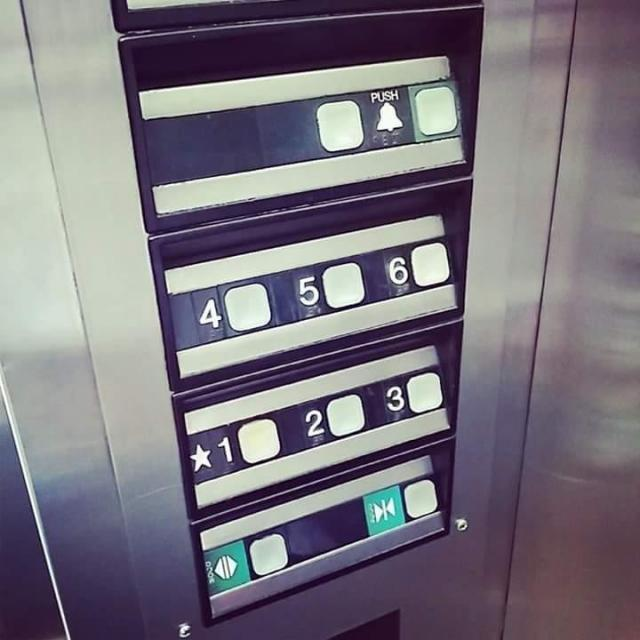2: (297, 380, 363, 450)
3: (376, 359, 444, 427)
4: (185, 268, 281, 346)
5: (286, 254, 369, 318)
6: (378, 232, 451, 304)
alarm: (360, 73, 465, 148)
close: (357, 470, 441, 539)
empty: (268, 84, 369, 166)
open: (197, 523, 297, 593)
s1: (183, 404, 285, 486)
